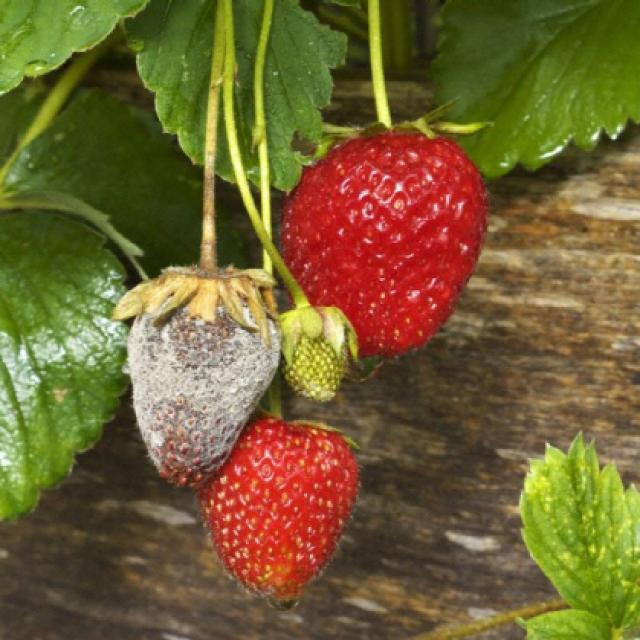Gray Mold: (111, 265, 283, 491)
